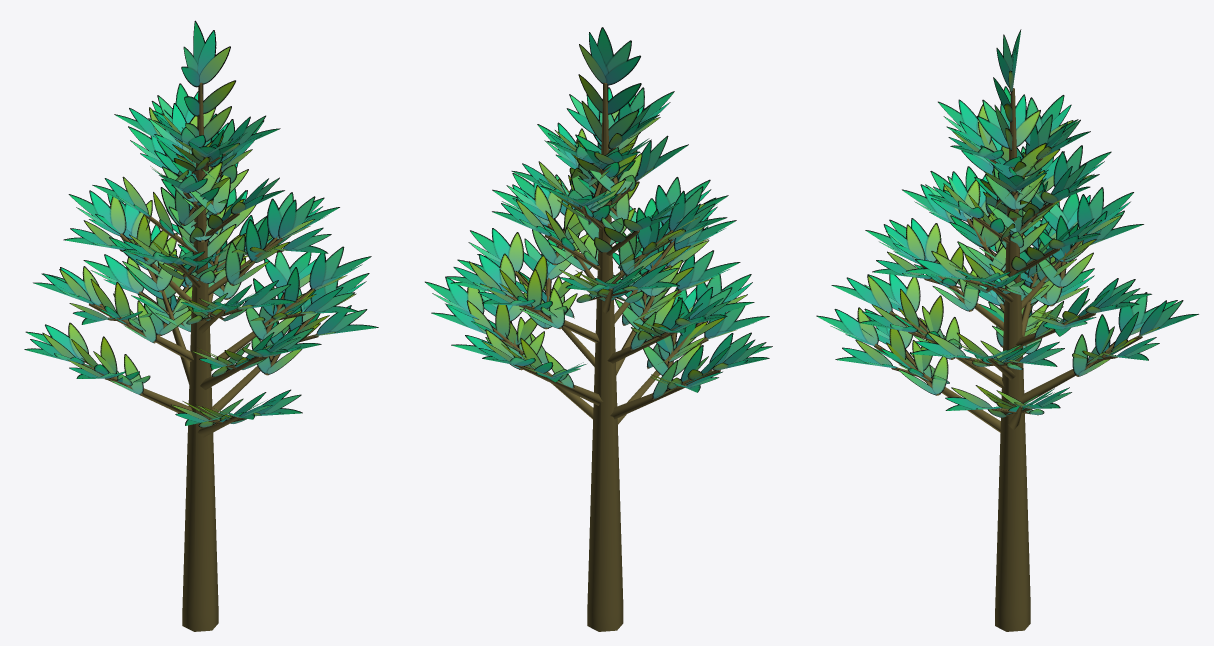
The model's file is poplar-green.gltf.
The picture shows the model from 3 angles, left to right: view 1: azimuth 30°, elevation 25°; view 2: azimuth 150°, elevation 25°; view 3: azimuth 270°, elevation 25°; orthographic projection.
Visible parts, largest first — view 1: leaves, bark; view 2: leaves, bark; view 3: leaves, bark.
Part boxes in pixels (<box>): leaves: <box>24,20,378,427</box>; bark: <box>83,82,318,631</box>; leaves: <box>425,27,772,399</box>; bark: <box>493,82,720,631</box>; leaves: <box>816,29,1198,417</box>; bark: <box>874,88,1142,631</box>.
Bounding box in the file's own units: 1.97 × 3.27 × 1.93.
2 materials, 1 textured.
